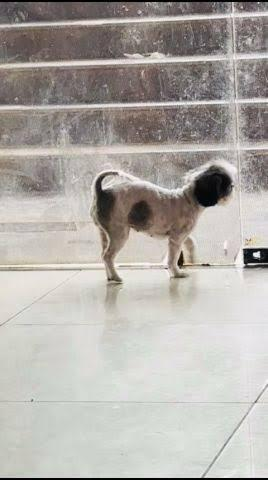adult_dog: (91, 161, 237, 284)
